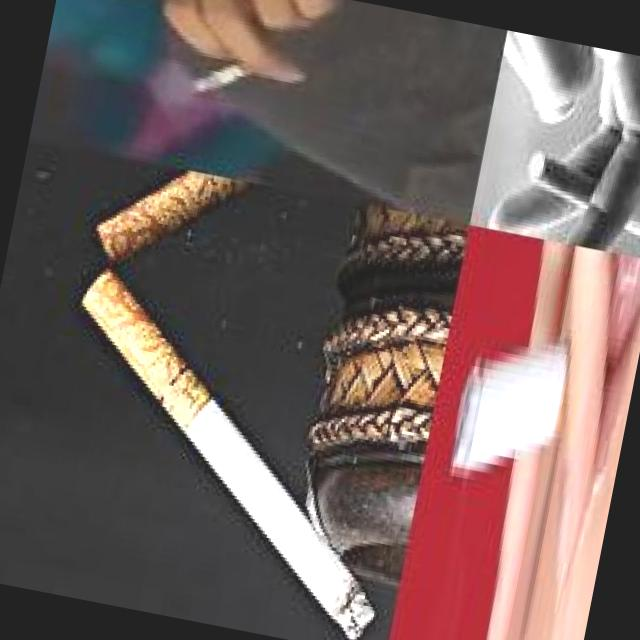smoke: (25, 262, 434, 640), (444, 314, 606, 503), (517, 150, 640, 249), (188, 58, 262, 109)
